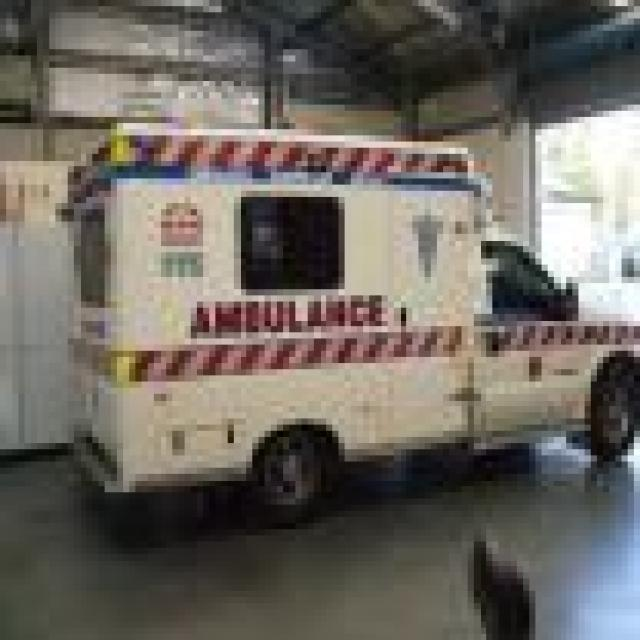emergency-vehicle: (52, 117, 637, 523)
